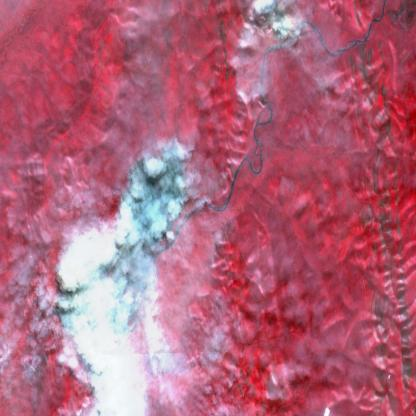fire: (112, 135, 193, 244)
